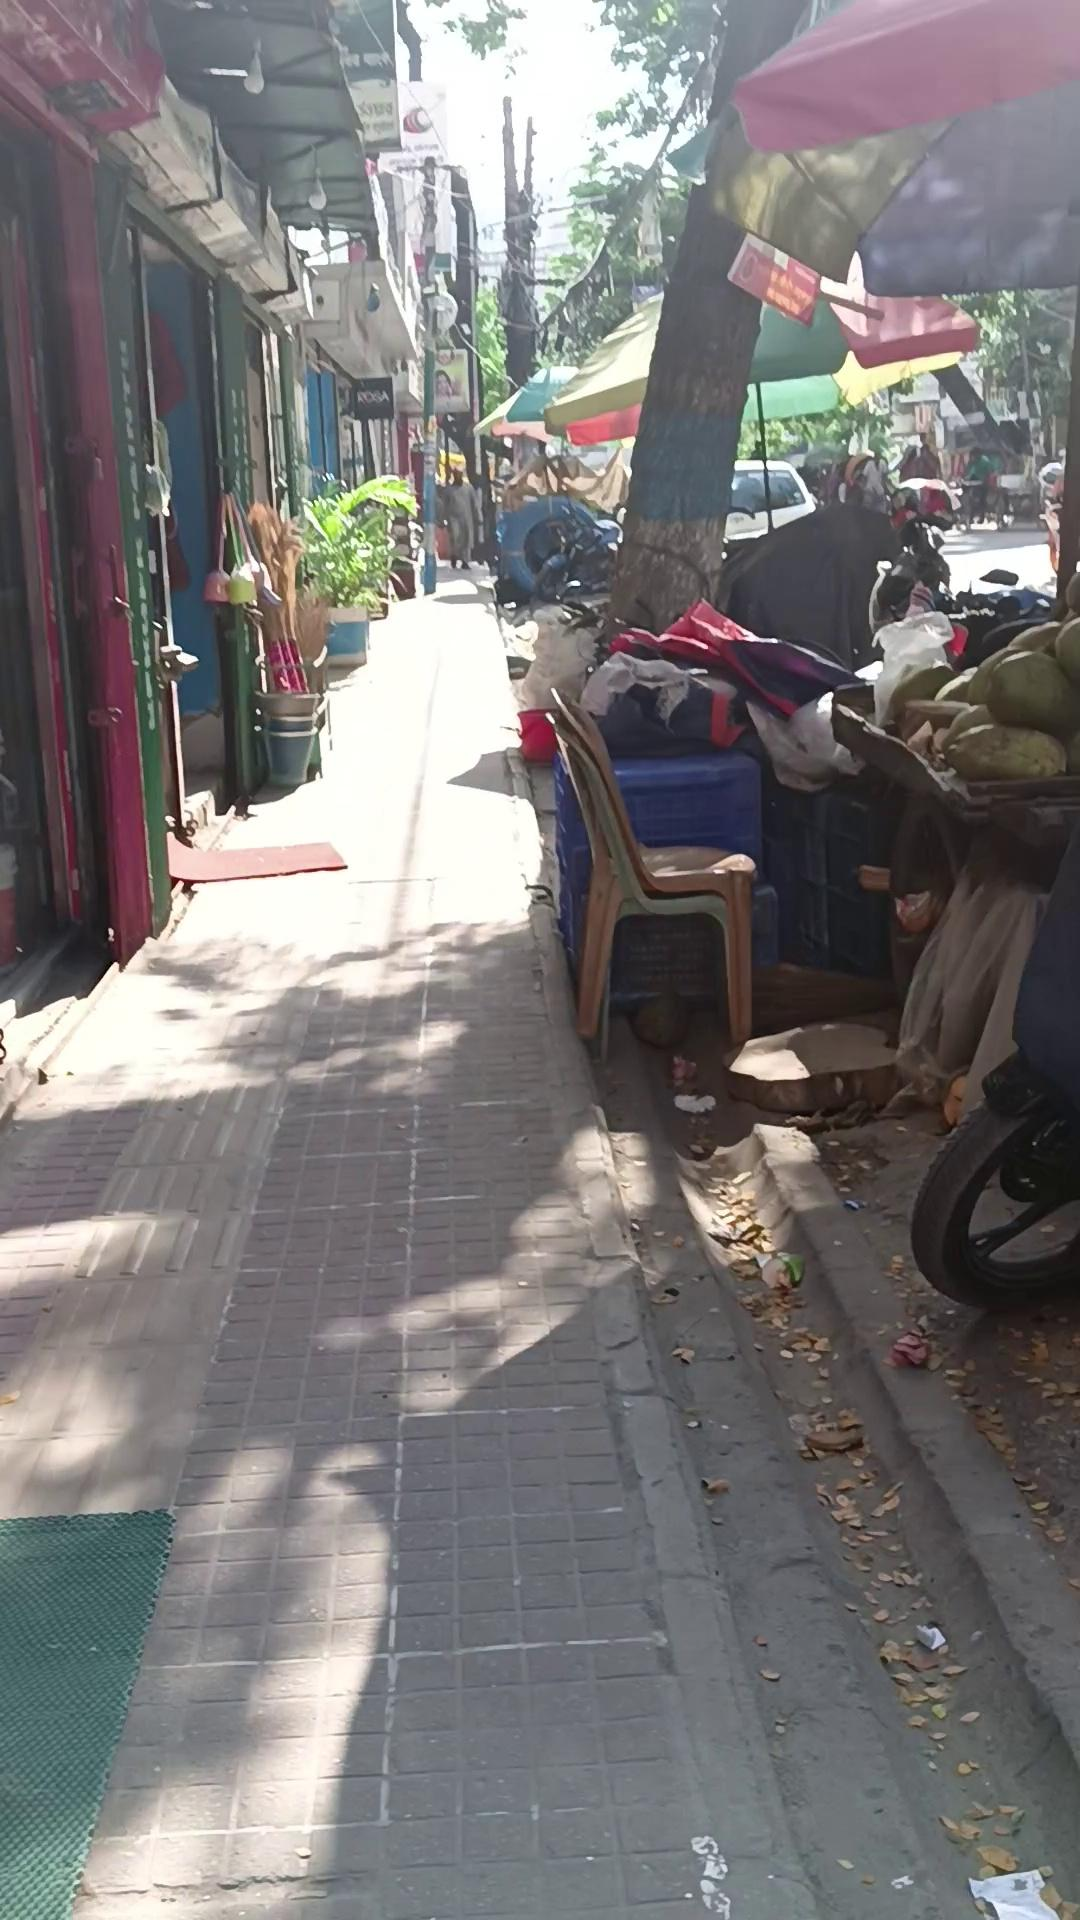Animal: (545, 683, 766, 1063)
Bollard: (721, 458, 818, 558)
Broken-road: (513, 832, 1080, 1920)
Construction-barrier: (531, 493, 622, 601)
Crosswalk: (828, 671, 1076, 1124), (829, 675, 1077, 844), (164, 835, 348, 884)
Dog: (414, 272, 458, 595), (418, 280, 440, 593)
Fallen-tree: (294, 468, 419, 667)
Garbage: (0, 580, 1080, 1920)
